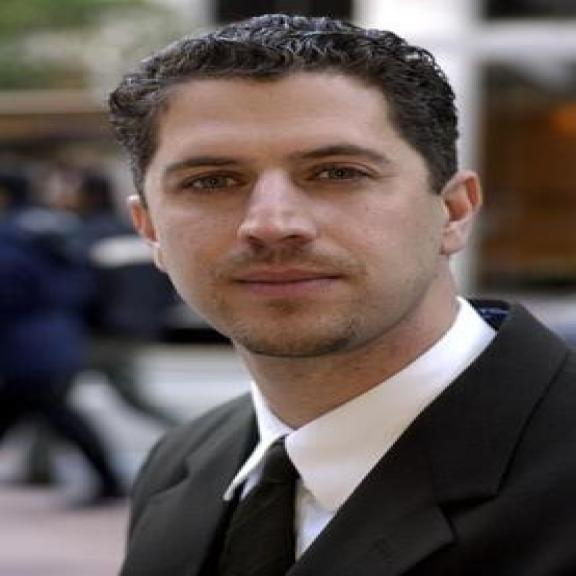face: (130, 71, 483, 358)
